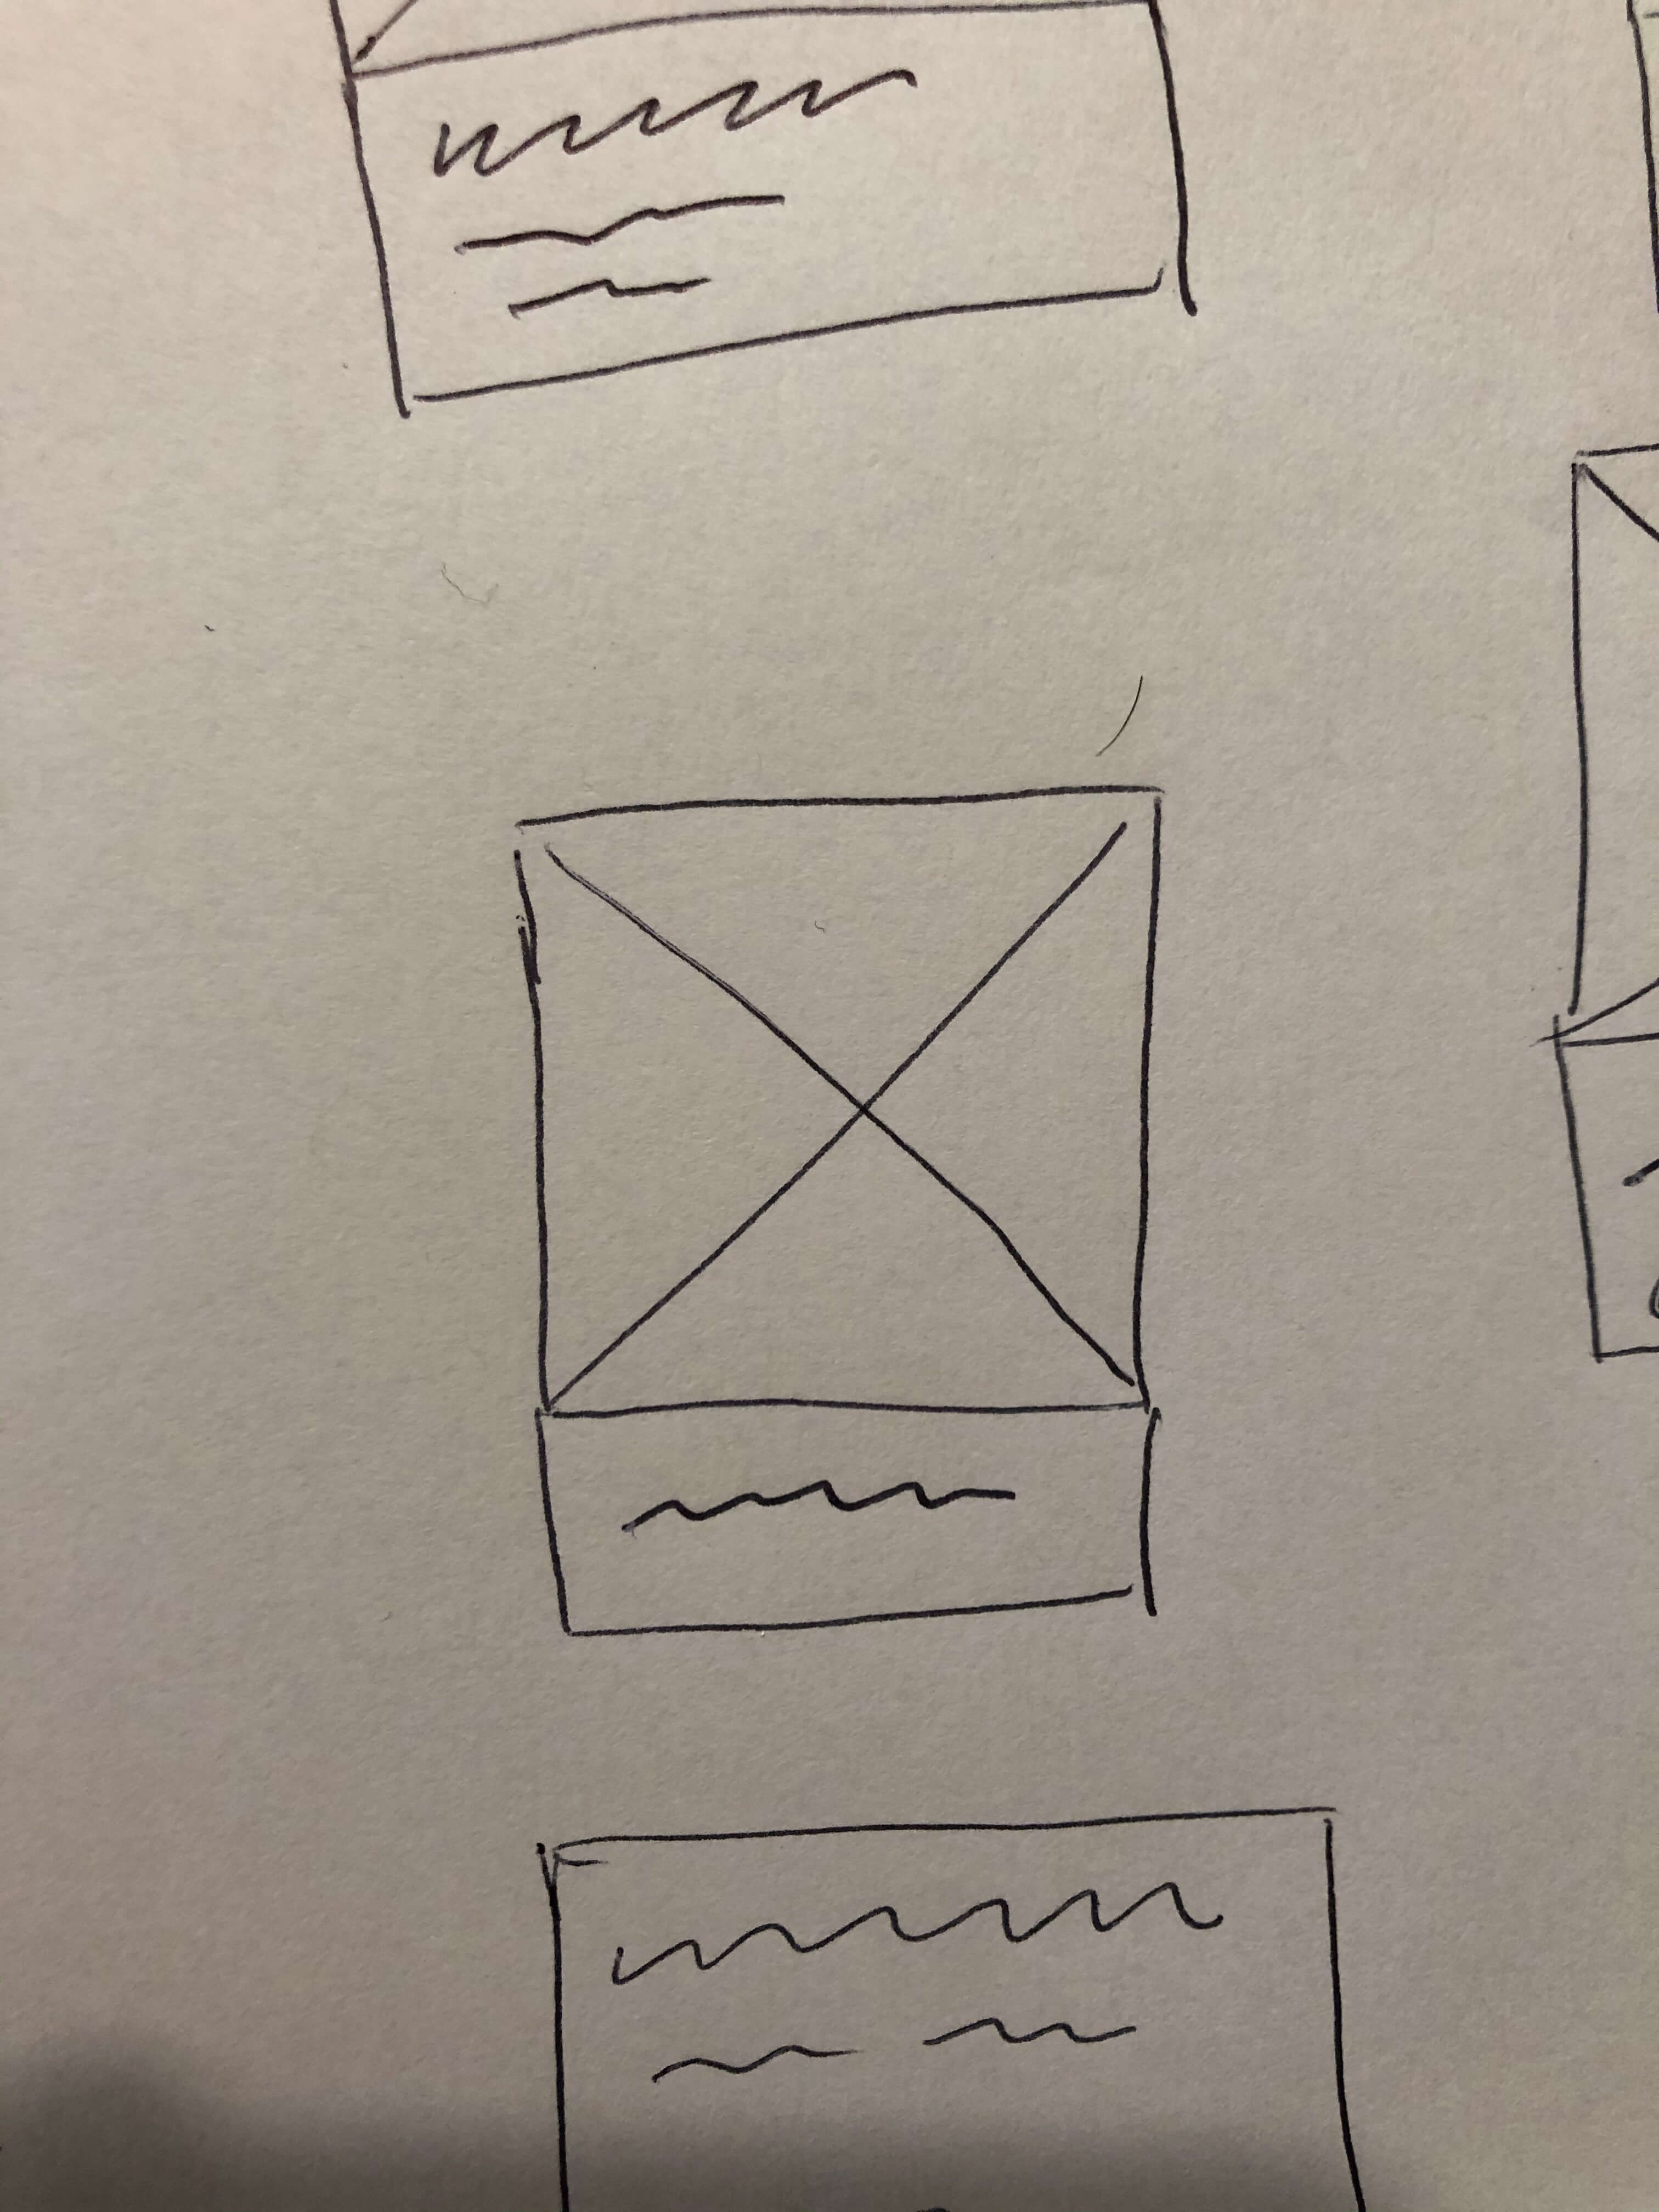card: (483, 758, 1197, 1691)
